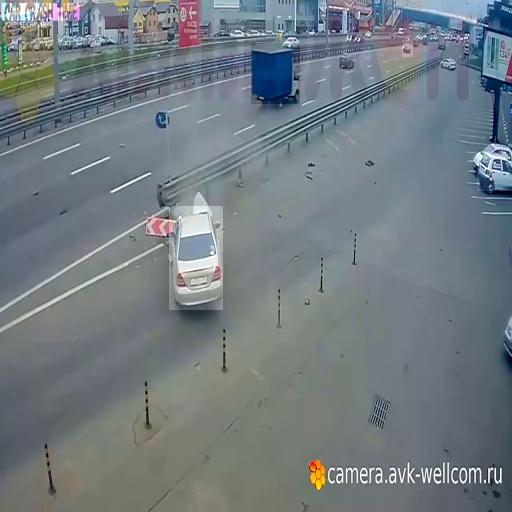小汽车: (169, 206, 223, 310), (251, 43, 300, 104), (477, 151, 512, 191), (338, 50, 356, 72), (440, 55, 458, 73), (402, 40, 413, 57)
